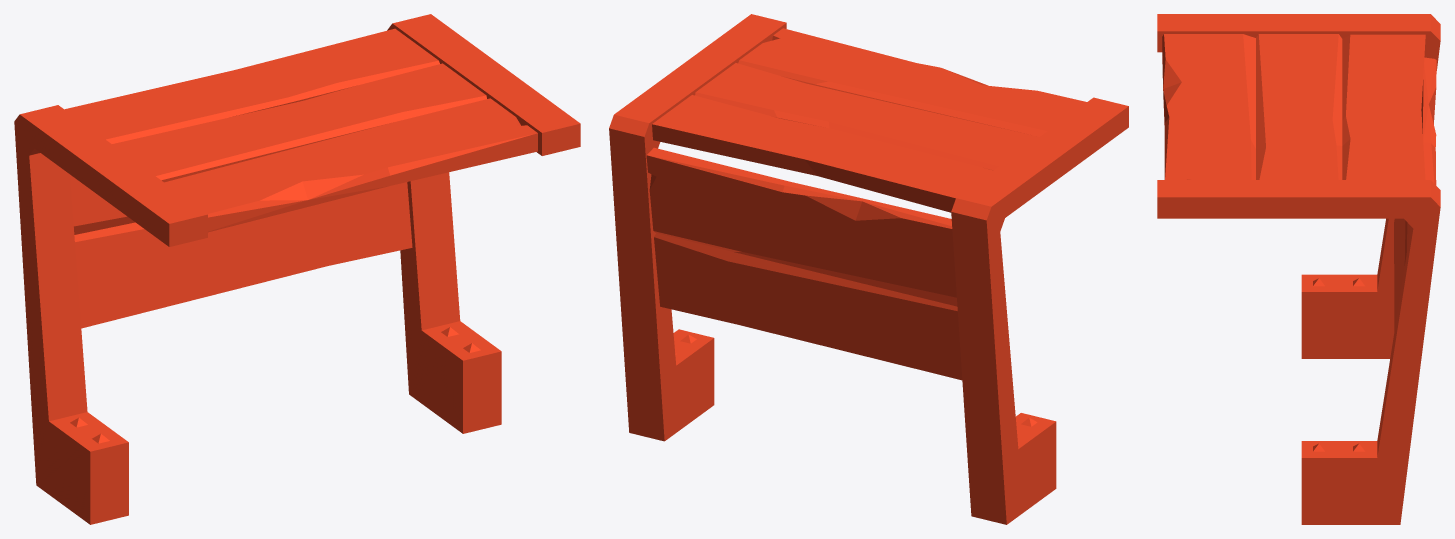
Rendered from SM_Chair_A_City.fbx.
3 renders of one model, left to right at view 1: azimuth 30°, elevation 25°; view 2: azimuth 150°, elevation 25°; view 3: azimuth 270°, elevation 25°, orthographic. The views are drawn at different scales.
Parts seen in each view (by area): view 1: SM_Chair_A_City; view 2: SM_Chair_A_City; view 3: SM_Chair_A_City.
Part boxes in pixels (x1,y1,x2,y2): SM_Chair_A_City: [14, 14, 580, 524]; SM_Chair_A_City: [609, 14, 1128, 524]; SM_Chair_A_City: [1157, 14, 1440, 524].
Bounding box in the file's own units: 0.7415 × 0.6182 × 0.4842.
